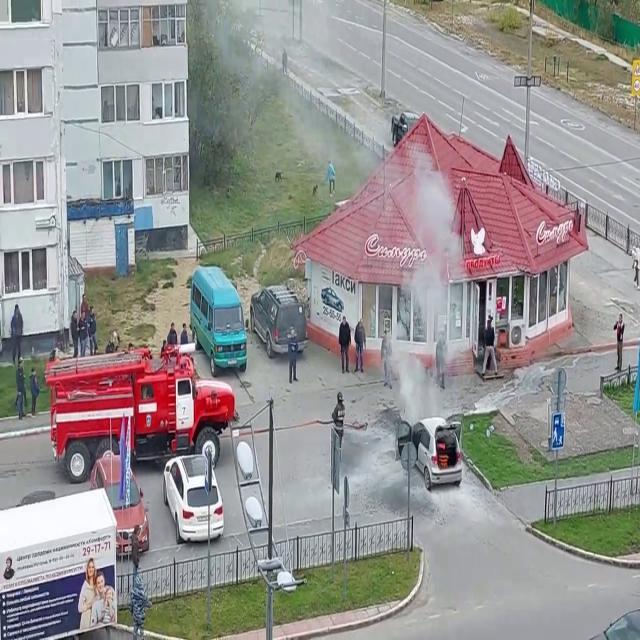Smoke: (394, 160, 466, 435)
